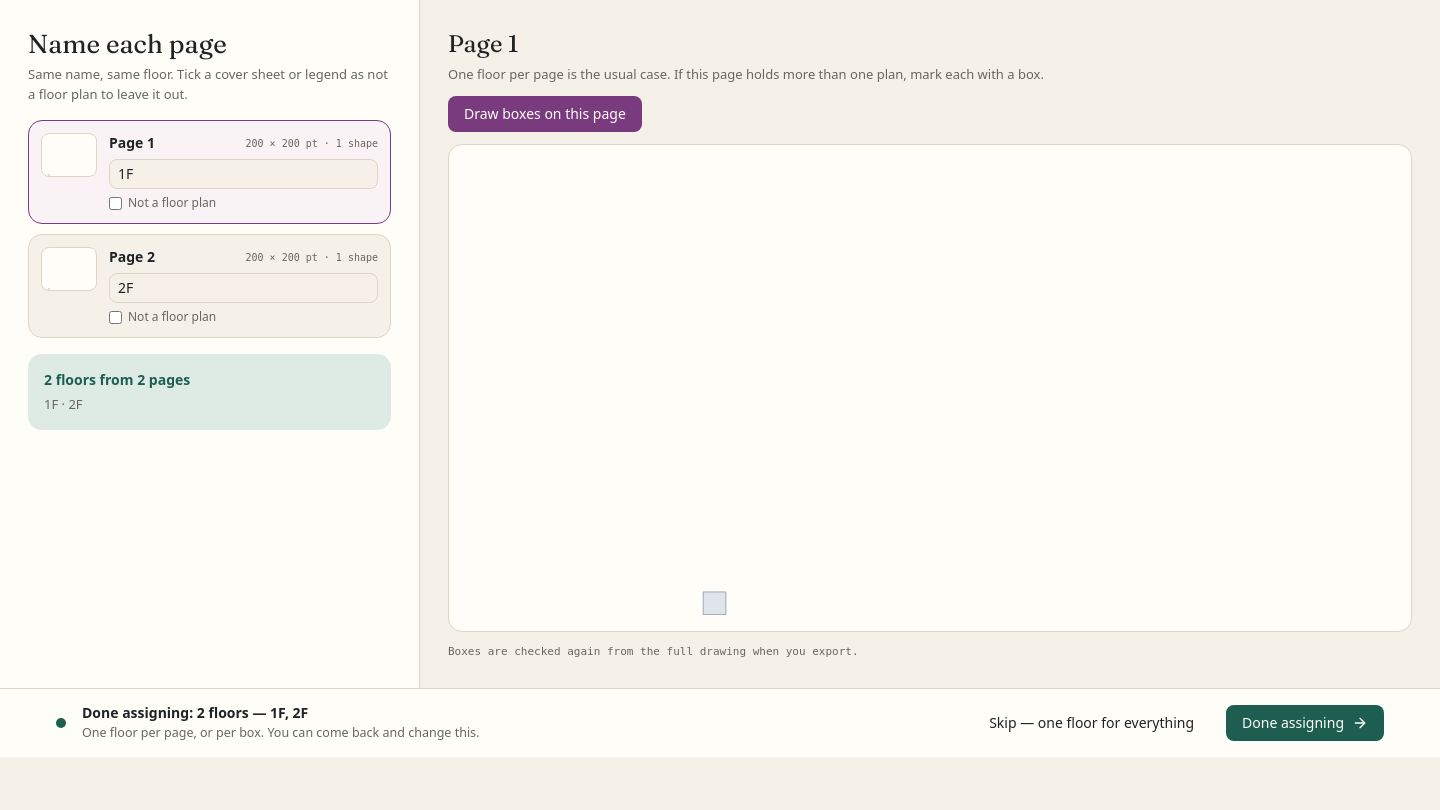
Scenario: Draw boxes opens the box view for the page that is selected
Click the button "Page 2": coordinates (132, 257) top-left (109, 247), bottom-right (155, 267)
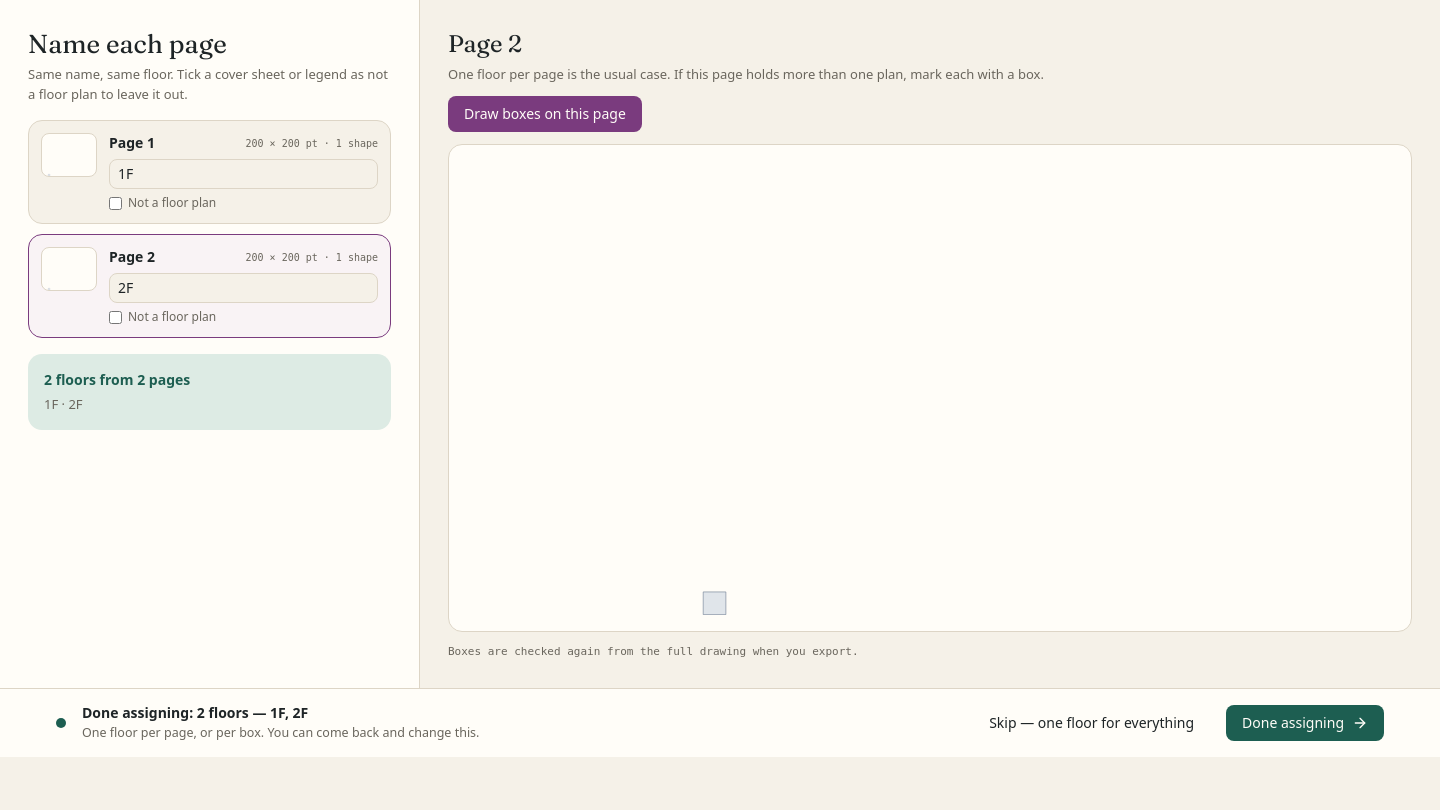
Click the button "Draw boxes on this page": coordinates (545, 114) top-left (448, 96), bottom-right (642, 132)
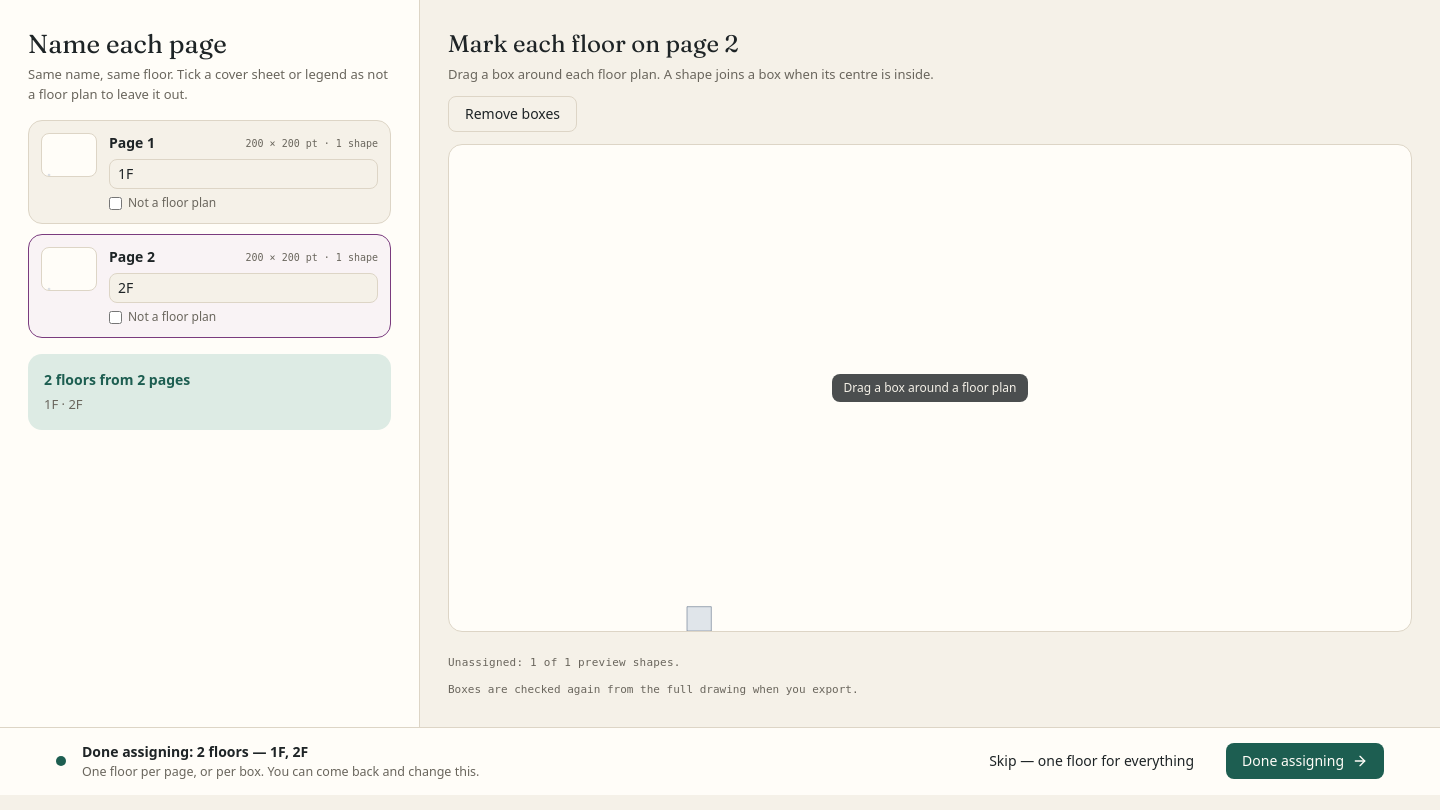
Check: the field named "Floor name for page 1" is shown, box top-left (109, 159), bottom-right (378, 189)
Check: the heading "Mark each floor on page 2" is shown, box top-left (448, 29), bottom-right (739, 58)
